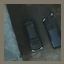car: (23, 20, 42, 54), (42, 13, 59, 49)
